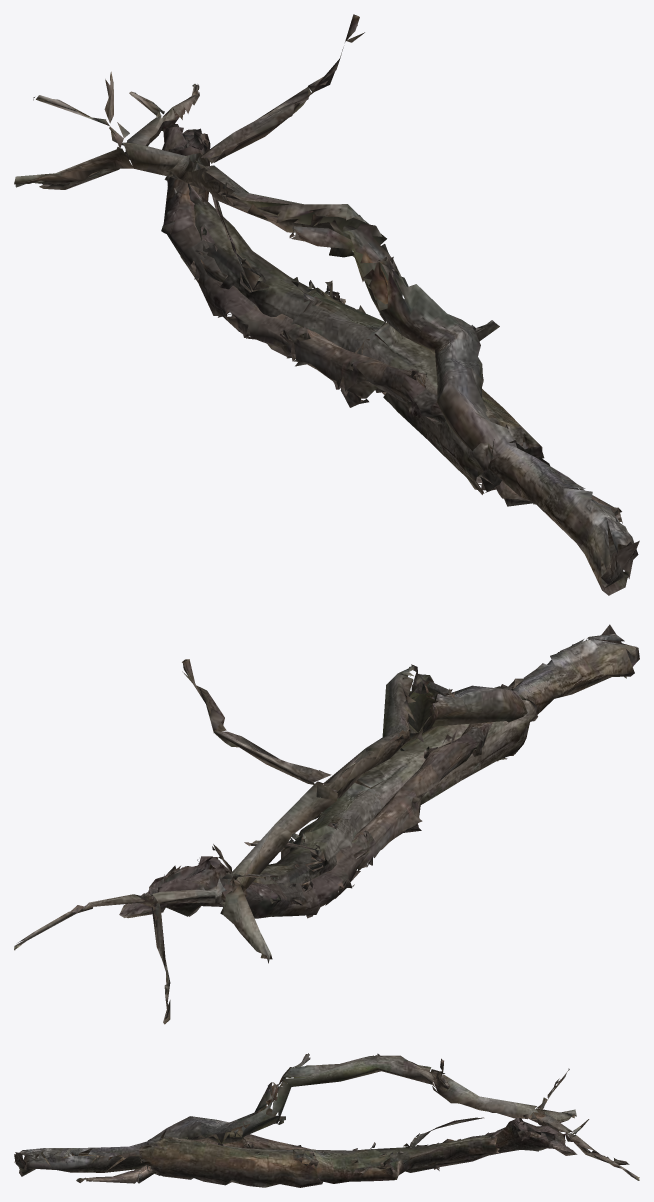
File: twigs.glb
The picture shows the model from 3 angles, top to bottom: view 1: azimuth 30°, elevation 25°; view 2: azimuth 150°, elevation 25°; view 3: azimuth 270°, elevation 25°; orthographic projection. The views are drawn at different scales.
Parts seen in each view (by area): view 1: dry_branches_medium_01_a, dry_branches_medium_01_c, dry_branches_medium_01_b; view 2: dry_branches_medium_01_a, dry_branches_medium_01_b, dry_branches_medium_01_c; view 3: dry_branches_medium_01_a, dry_branches_medium_01_c, dry_branches_medium_01_b.
Boxes of the visible parts, bbox=[...] form: dry_branches_medium_01_a: bbox=[14, 14, 639, 595]; dry_branches_medium_01_c: bbox=[188, 184, 544, 494]; dry_branches_medium_01_b: bbox=[161, 123, 622, 523]; dry_branches_medium_01_a: bbox=[14, 624, 639, 1024]; dry_branches_medium_01_b: bbox=[119, 678, 523, 918]; dry_branches_medium_01_c: bbox=[225, 684, 537, 903]; dry_branches_medium_01_a: bbox=[14, 1053, 639, 1180]; dry_branches_medium_01_c: bbox=[138, 1117, 514, 1187]; dry_branches_medium_01_b: bbox=[76, 1118, 577, 1183].
Bounding box in the file's own units: 0.319 × 0.3396 × 1.3.
Materials: 1 (1 with a texture image).
